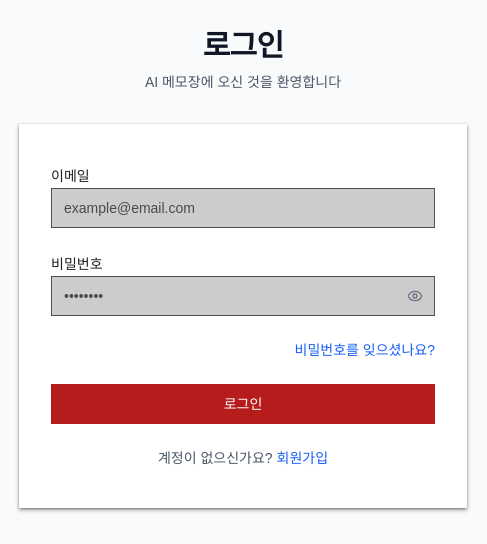
Test: LoginPage › 비밀번호가 비어있을 때 에러 메시지를 표시해야 함
Type "test@example.com" into the field labelled "이메일".
click(243, 208); type("test@example.com")  # box [51,188,435,228]
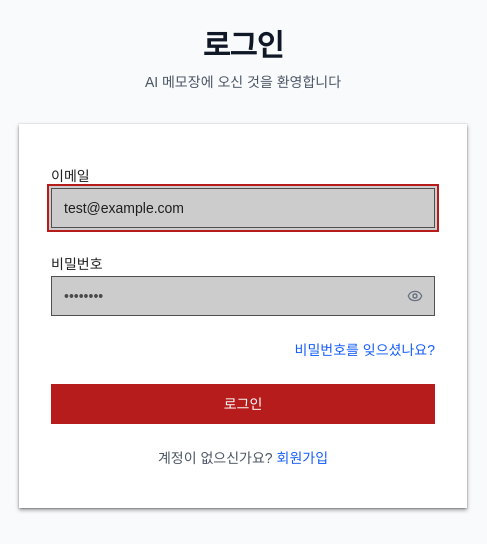
Click the button "로그인".
click(243, 404)  # box [51,384,435,424]
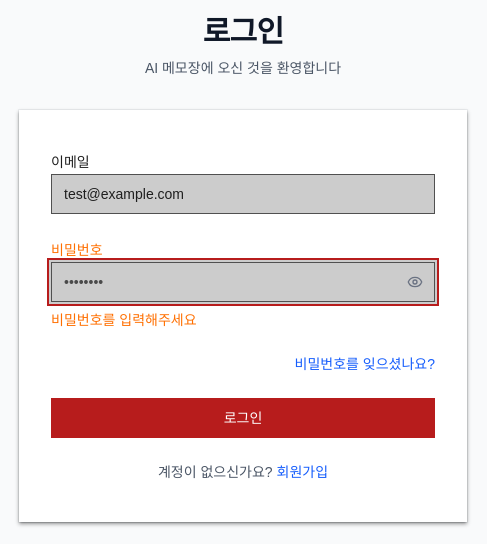
Now the text "비밀번호를 입력해주세요" is shown, box [51,312,197,328]
